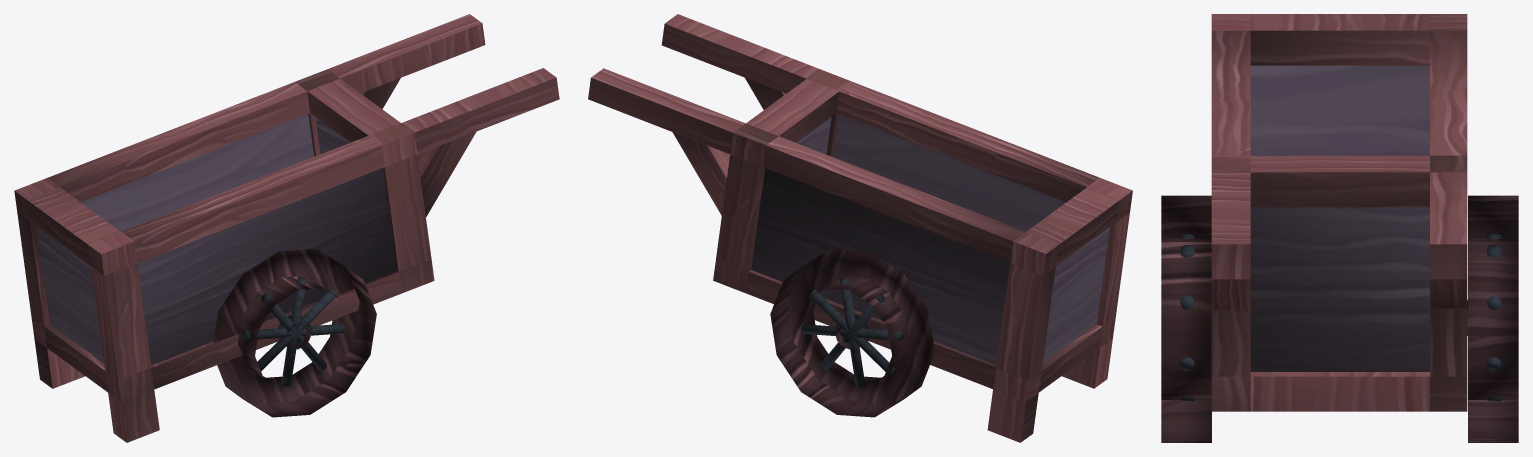
The model's file is Gerobak .fbx.
3 views of the same model, side by side, from view 1: azimuth 30°, elevation 25°; view 2: azimuth 150°, elevation 25°; view 3: azimuth 270°, elevation 25° (orthographic). The views are drawn at different scales.
Visible parts, largest first — view 1: Cube.001, Cube, Cylinder, Cylinder.002, Cube.002; view 2: Cube.001, Cube, Cylinder.001, Cylinder.003, Cube.002; view 3: Cube.001, Cube, Cylinder, Cylinder.001, Cube.002, Cylinder.003, Cylinder.002.
Part boxes in pixels (bbox=[...]): Cube.001: bbox=[14, 14, 559, 442]; Cube: bbox=[37, 114, 396, 365]; Cylinder: bbox=[213, 248, 376, 417]; Cylinder.002: bbox=[243, 277, 345, 386]; Cube.002: bbox=[361, 78, 476, 216]; Cube.001: bbox=[588, 14, 1132, 442]; Cube: bbox=[751, 114, 1109, 364]; Cylinder.001: bbox=[770, 249, 934, 417]; Cylinder.003: bbox=[801, 278, 903, 387]; Cube.002: bbox=[672, 78, 785, 215]; Cube.001: bbox=[1211, 14, 1467, 411]; Cube: bbox=[1250, 65, 1429, 371]; Cylinder: bbox=[1161, 195, 1211, 442]; Cylinder.001: bbox=[1468, 195, 1518, 442]; Cube.002: bbox=[1212, 279, 1465, 310]; Cylinder.003: bbox=[1487, 234, 1501, 401]; Cylinder.002: bbox=[1180, 234, 1194, 401].
Size of the model in its own units: 755 by 410 by 347.
